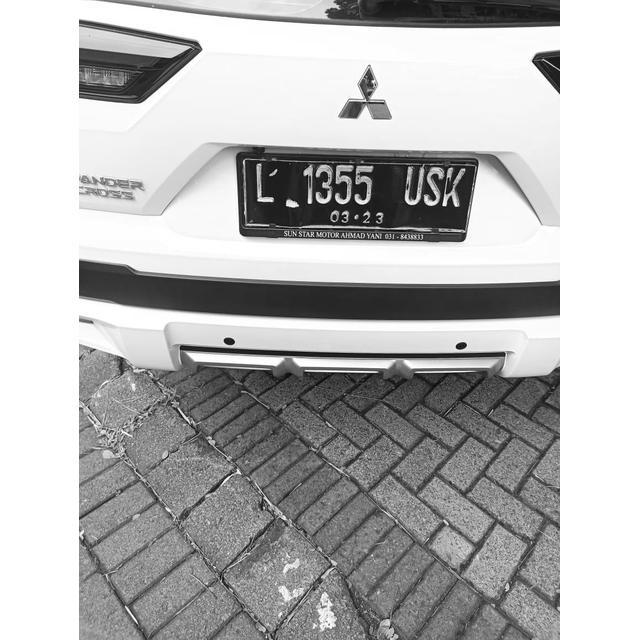license: (249, 160, 466, 228)
